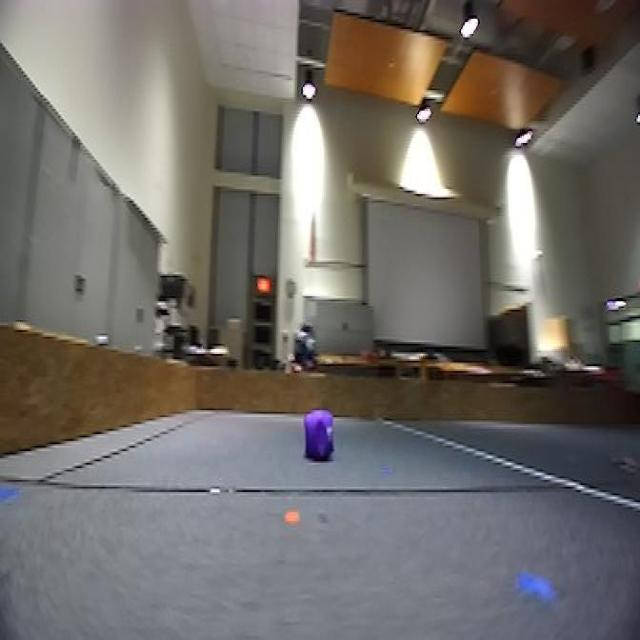frc_cube: (304, 408, 337, 464)
